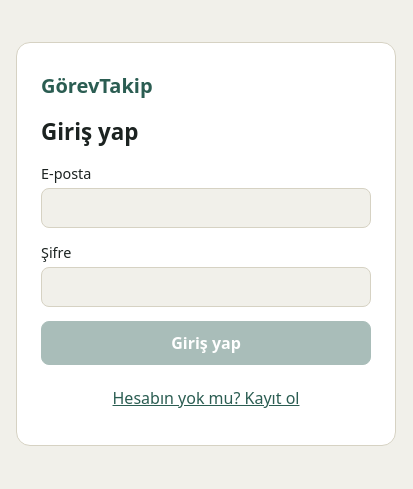
AuthForm: giriş modu › yeni deneme başlar başlamaz (cevap beklenirken) eski hata mesajı kalkar
This screenshot has width=413, height=489.
In the field labelled "E-posta": (206, 208) [41, 188, 371, 228], type "ali@ornek.com"
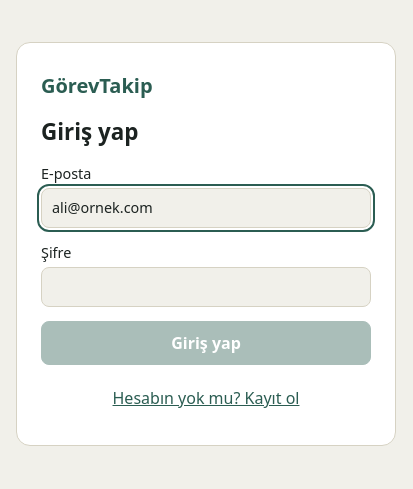
In the password field labelled "Şifre": (206, 287) [41, 267, 371, 307], type "yanlis"
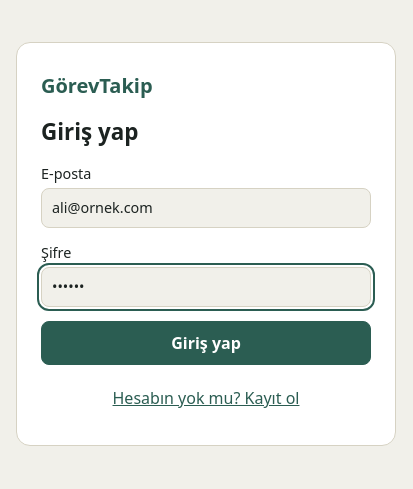
Click the button "Giriş yap": (206, 343) [41, 321, 371, 365]
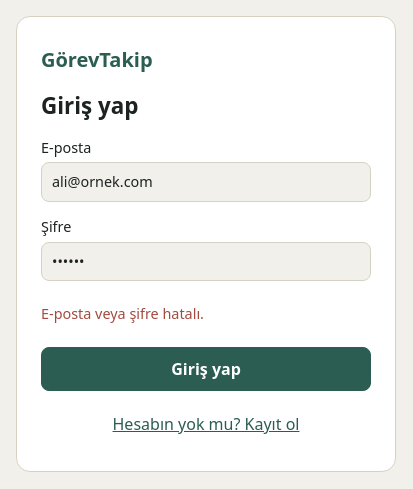
Now the message "E-posta veya şifre hatalı." is shown, box [41, 304, 204, 323]
Click the button "Giriş yap": (206, 369) [41, 347, 371, 391]
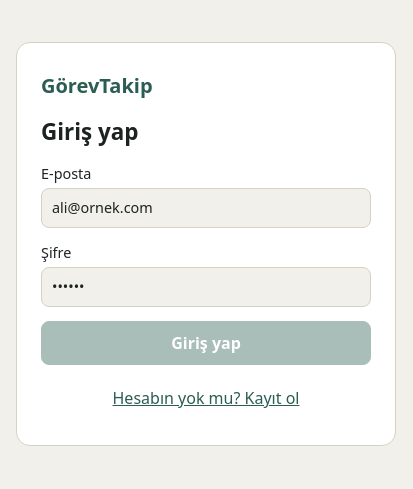
Now the message "E-posta veya şifre hatalı." is gone
